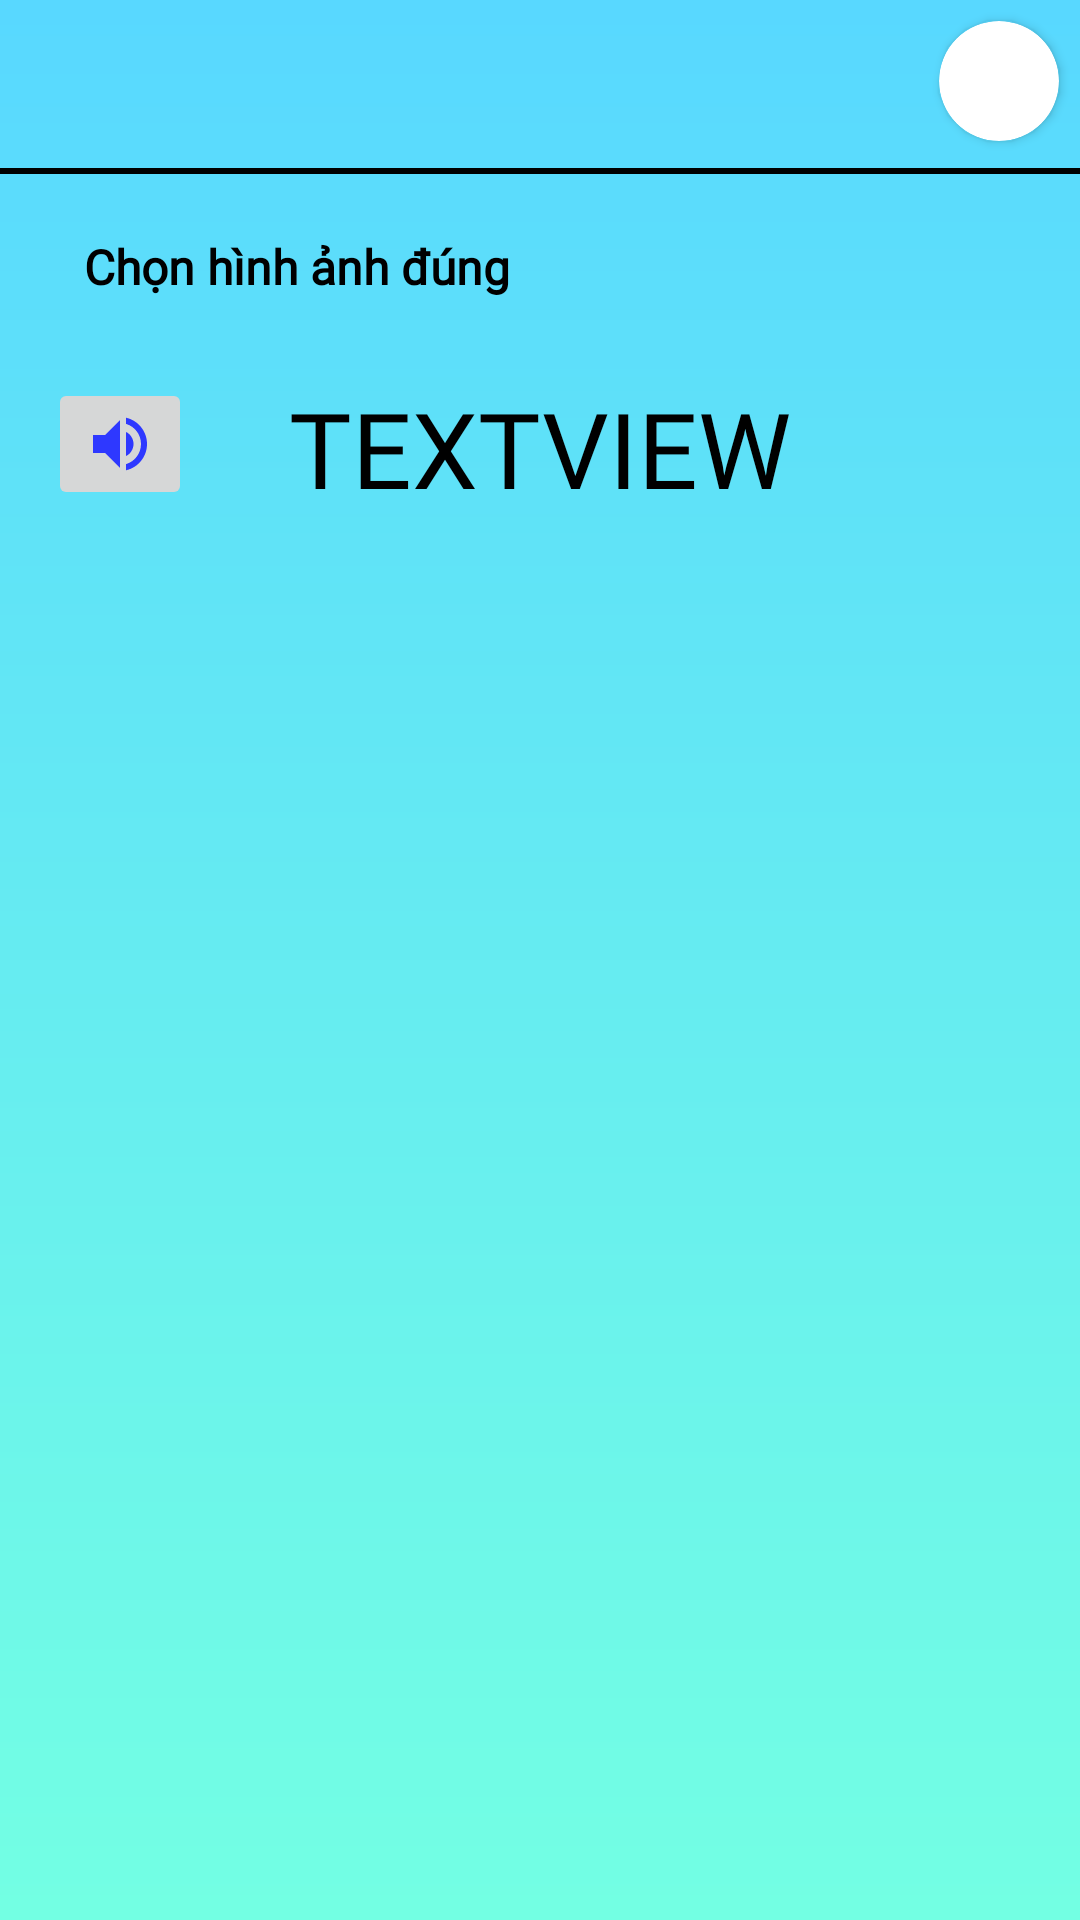

Screen size 1080x1920. Icon name, then its center in pixels as point (x, y):
volume up: point (120, 444)
